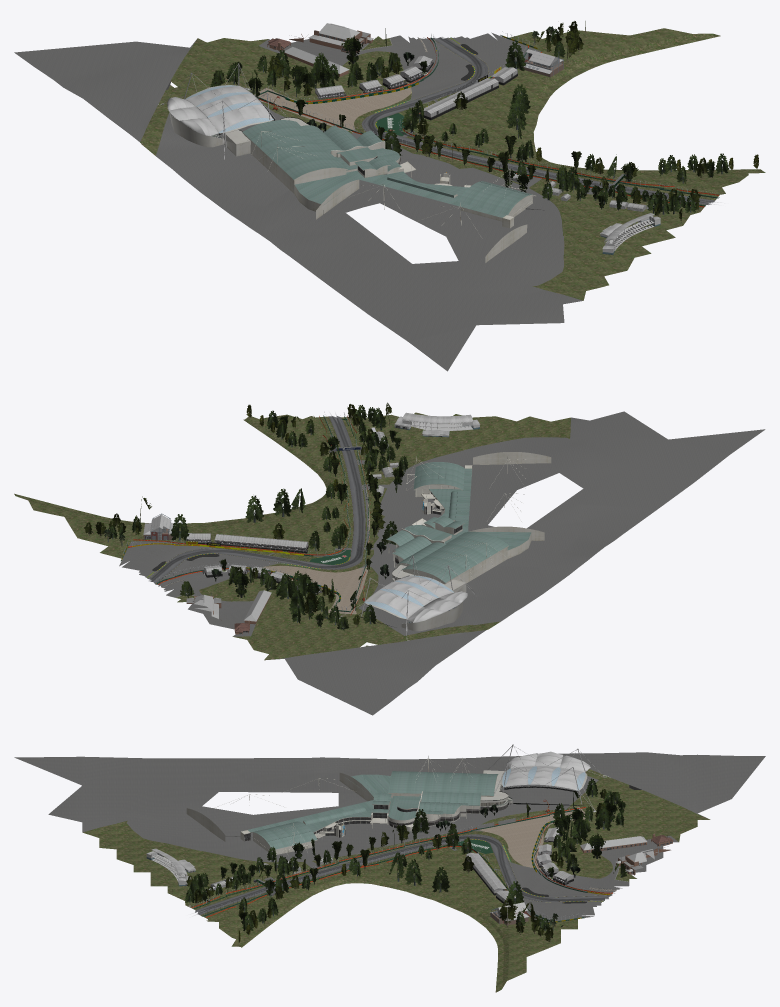
3 views of the same model, one above another, from view 1: azimuth 30°, elevation 25°; view 2: azimuth 150°, elevation 25°; view 3: azimuth 270°, elevation 25° (orthographic). The views are drawn at different scales.
Visible parts, largest first — view 1: tile_t00; view 2: tile_t00; view 3: tile_t00.
Boxes of the visible parts, x1=… form: tile_t00: x1=14, y1=21, x2=765, y2=371; tile_t00: x1=14, y1=402, x2=765, y2=715; tile_t00: x1=14, y1=744, x2=765, y2=992.
Size of the model in its own units: 517 by 44.28 by 704.
46 materials, 46 textured.
